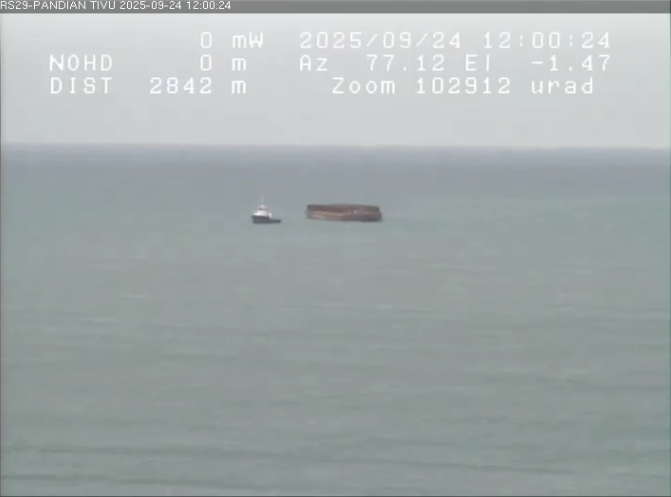BARGE: (299, 193, 395, 232)
OFFSHORE_SUPPLY_VESSEL: (238, 191, 284, 230)
TOWING: (212, 160, 450, 258)
